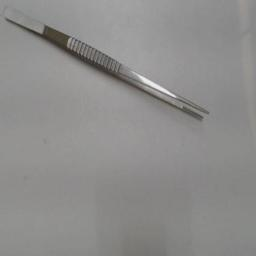DeBakey Dissector: (1, 2, 215, 130)
